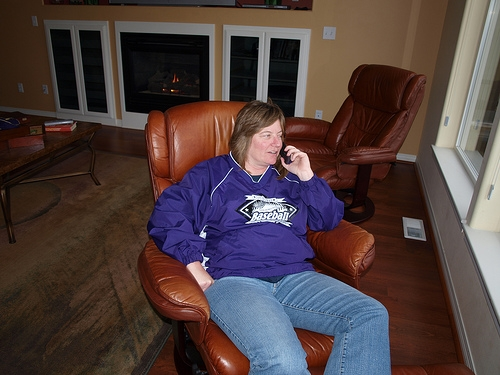phone: (272, 136, 301, 173)
